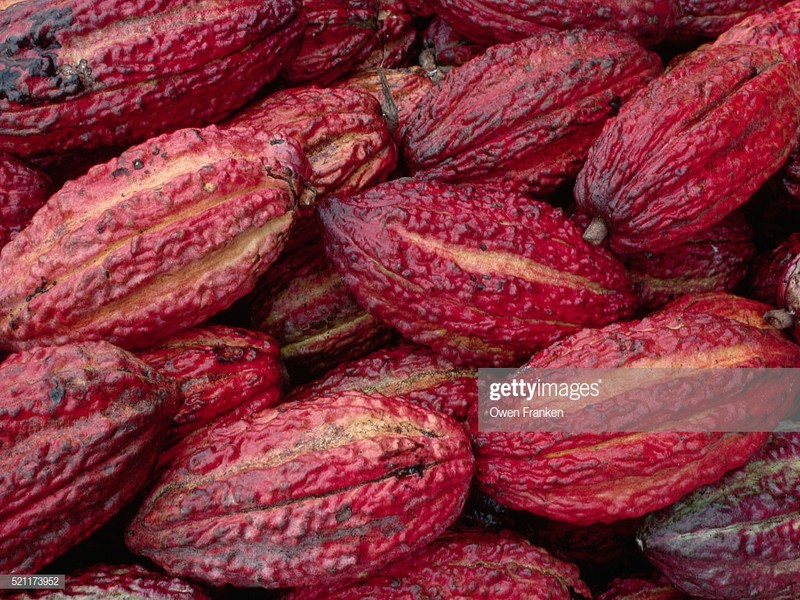Cacaopod: (123, 393, 480, 591), (2, 124, 305, 349), (314, 172, 644, 369)
